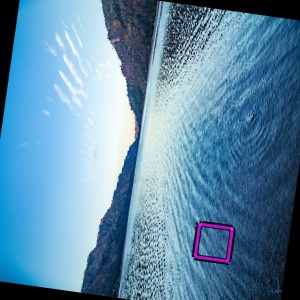square: (191, 218, 236, 267)
